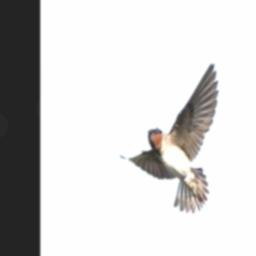Swallow: (118, 58, 220, 217)
